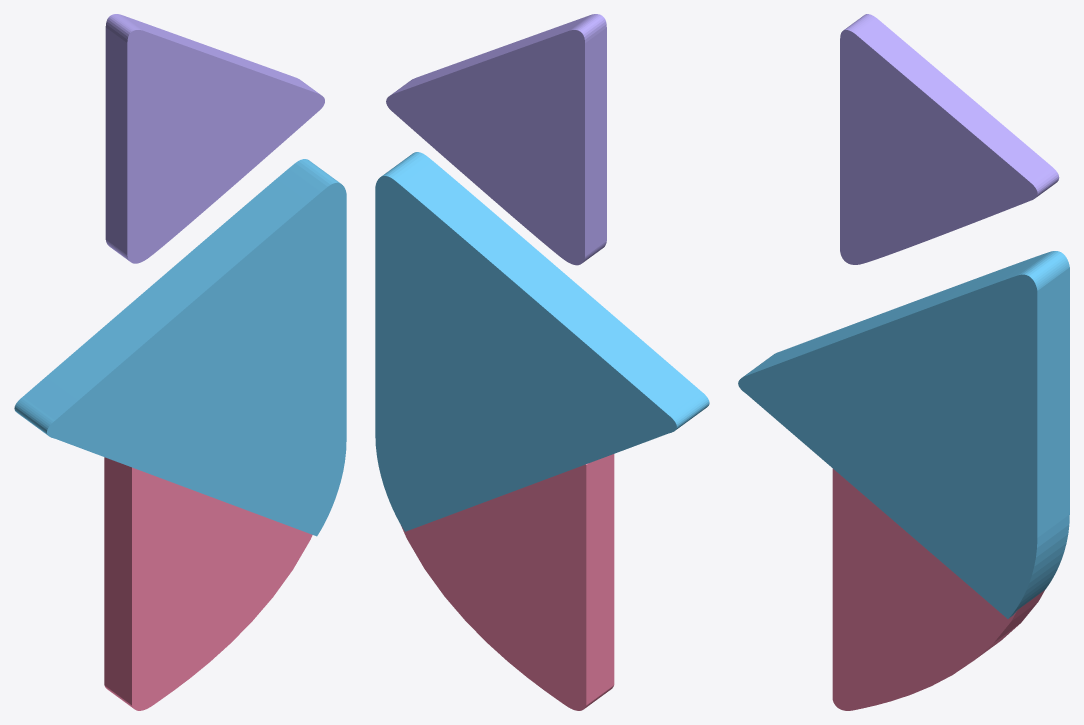
The model's file is mod.gltf.
The picture shows the model from 3 angles, left to right: view 1: azimuth 30°, elevation 25°; view 2: azimuth 150°, elevation 25°; view 3: azimuth 330°, elevation 25°; orthographic projection.
Size of the model in its own units: 4.19 by 9.04 by 0.7873.
